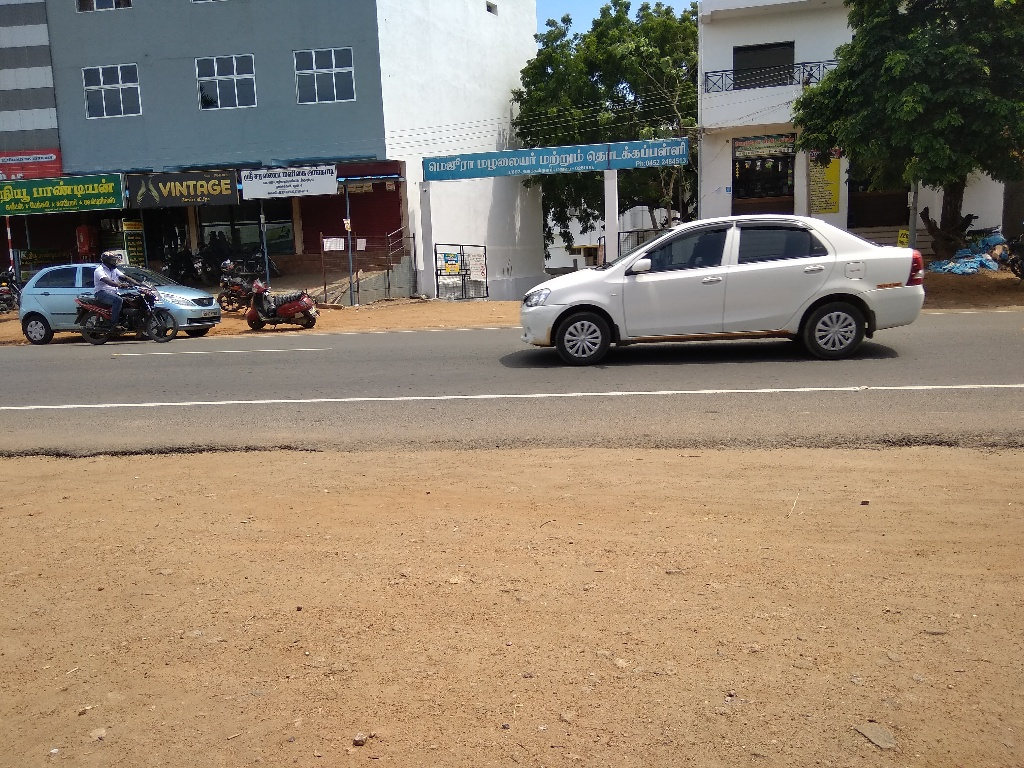biker: (69, 225, 187, 352)
helmet: (94, 243, 126, 276)
